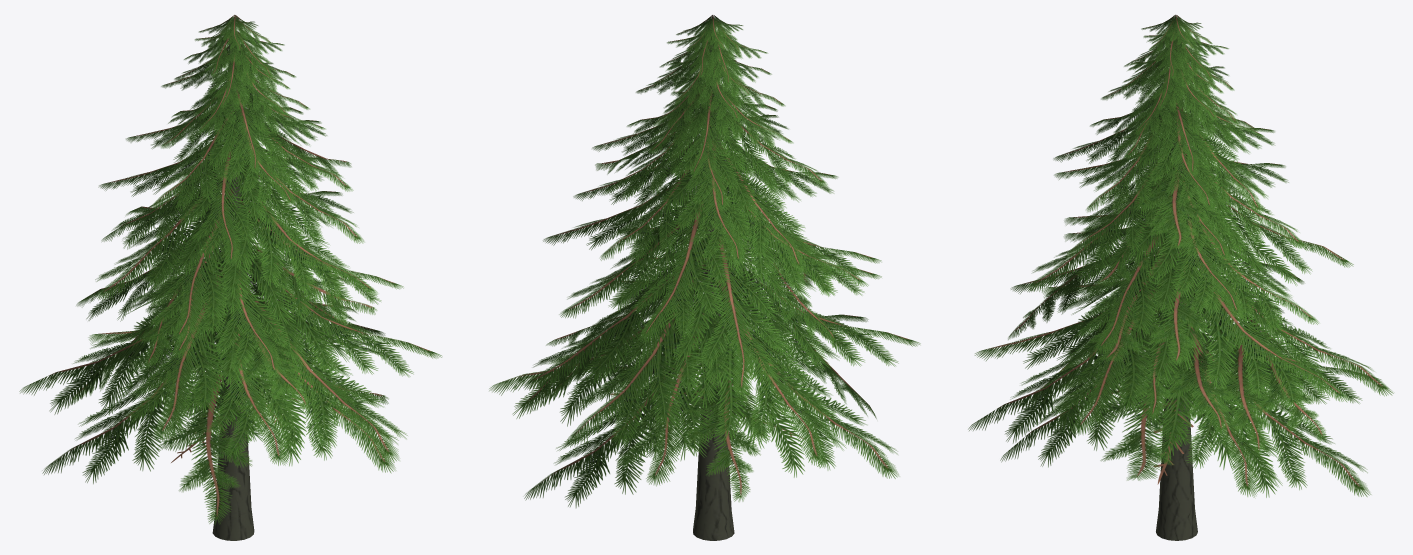
Rendered from pine_tree_game-ready.glb.
3 views of the same model, side by side, from view 1: azimuth 30°, elevation 25°; view 2: azimuth 150°, elevation 25°; view 3: azimuth 270°, elevation 25° (orthographic).
Parts seen in each view (by area): view 1: Branches_M_TreeAtlas_0, Trunk_Trunk_0; view 2: Branches_M_TreeAtlas_0, Trunk_Trunk_0; view 3: Branches_M_TreeAtlas_0, Trunk_Trunk_0.
Part boxes in pixels (<box>): Branches_M_TreeAtlas_0: <box>19,15,442,524</box>; Trunk_Trunk_0: <box>212,31,254,540</box>; Branches_M_TreeAtlas_0: <box>489,15,920,507</box>; Trunk_Trunk_0: <box>693,45,734,540</box>; Branches_M_TreeAtlas_0: <box>968,14,1393,497</box>; Trunk_Trunk_0: <box>1156,45,1197,540</box>.
Size of the model in its own units: 58.35 by 75 by 57.27.
Materials: 2 (2 with a texture image).
